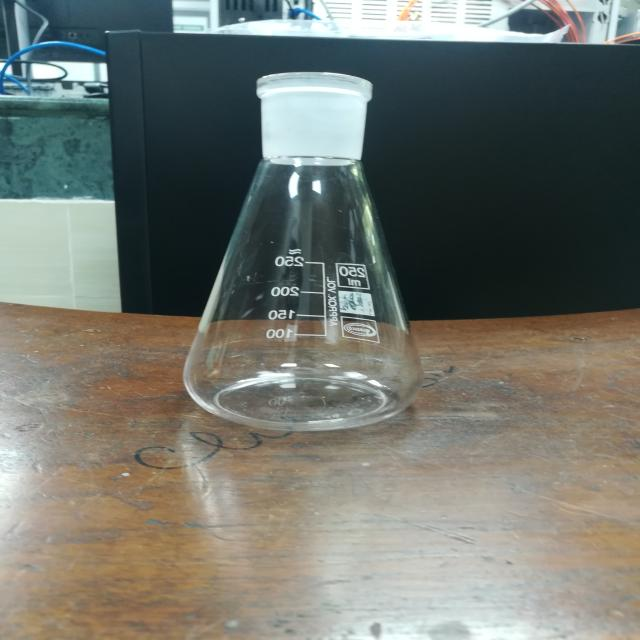Conical_Flask: (145, 41, 471, 453)
